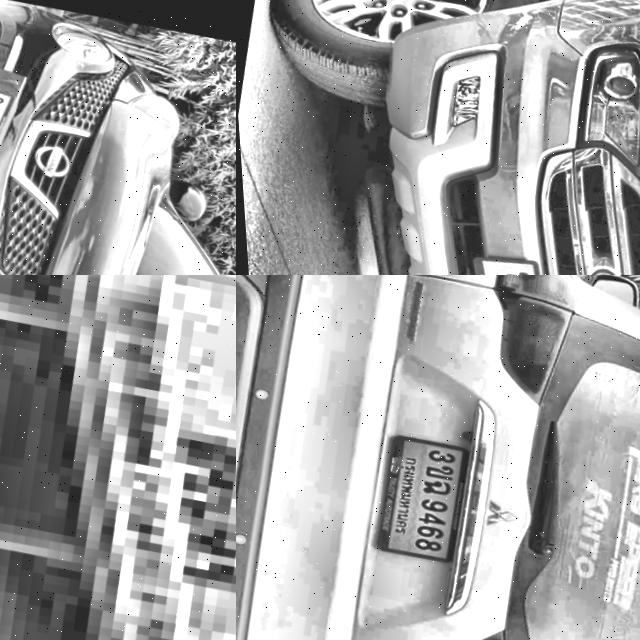license-plate: (0, 275, 236, 640), (361, 432, 473, 568), (443, 245, 564, 275), (0, 76, 21, 176)
